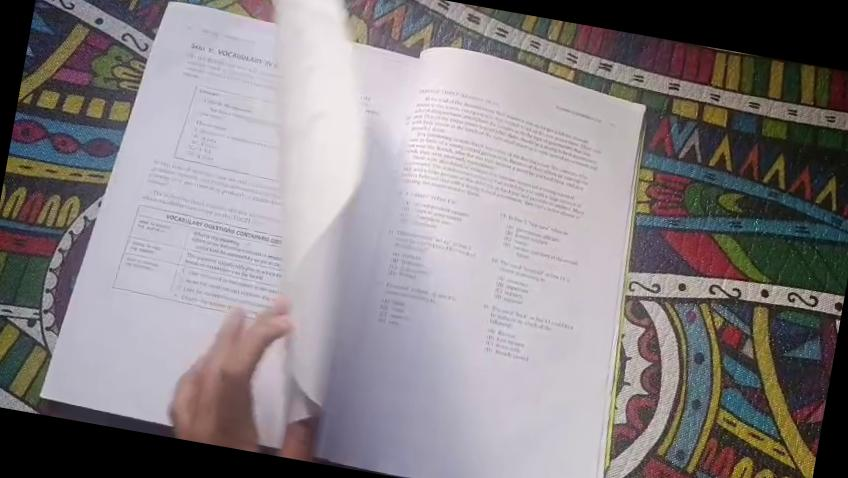Kertas: (312, 33, 670, 478), (39, 0, 376, 453)
